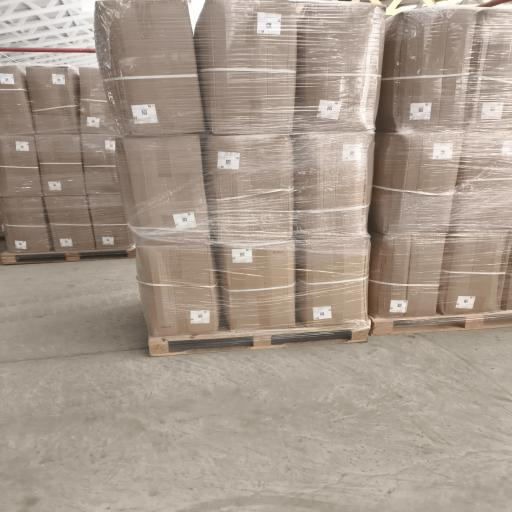pallet: (149, 327, 369, 356), (370, 311, 511, 335), (0, 248, 135, 264)
